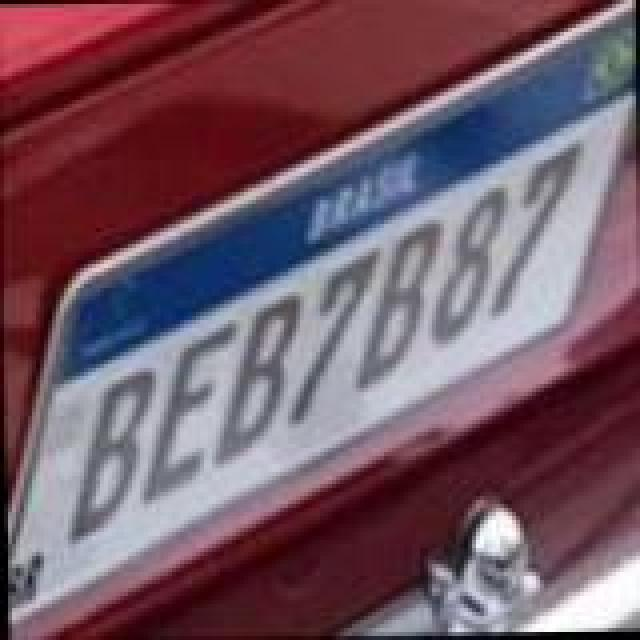7: (280, 248, 388, 428), (484, 140, 588, 324)
8: (426, 186, 514, 350)
B: (58, 364, 158, 548), (210, 294, 310, 466), (350, 220, 446, 396)
E: (134, 318, 242, 506)
